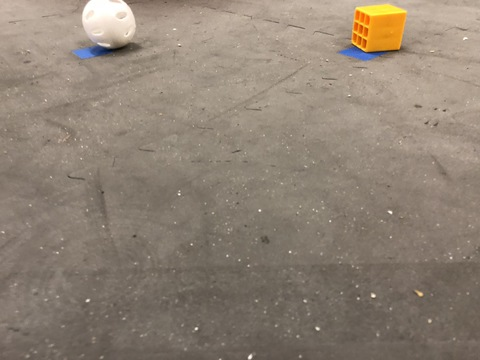ball: (72, 2, 151, 62)
block: (351, 3, 411, 61)
